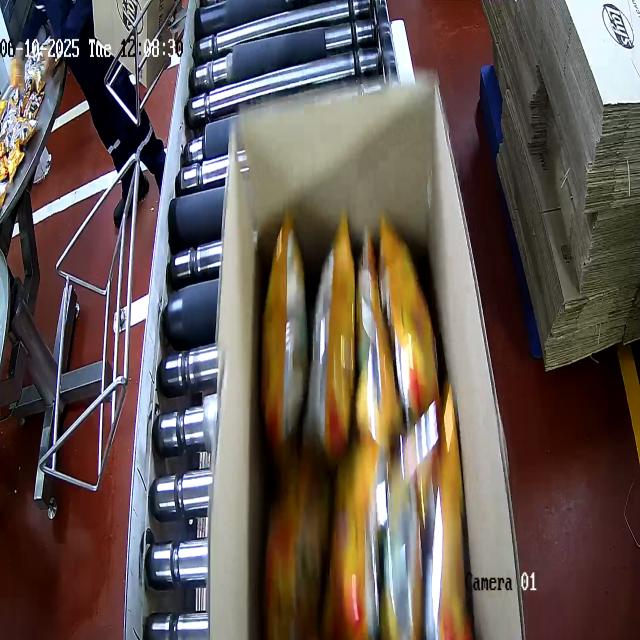FRENCH_CHEESE: (258, 198, 472, 640)
